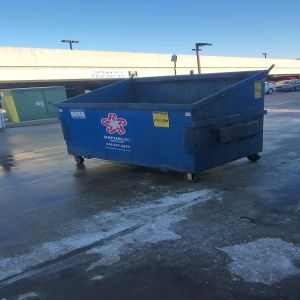Dumpster: (55, 70, 272, 187)
